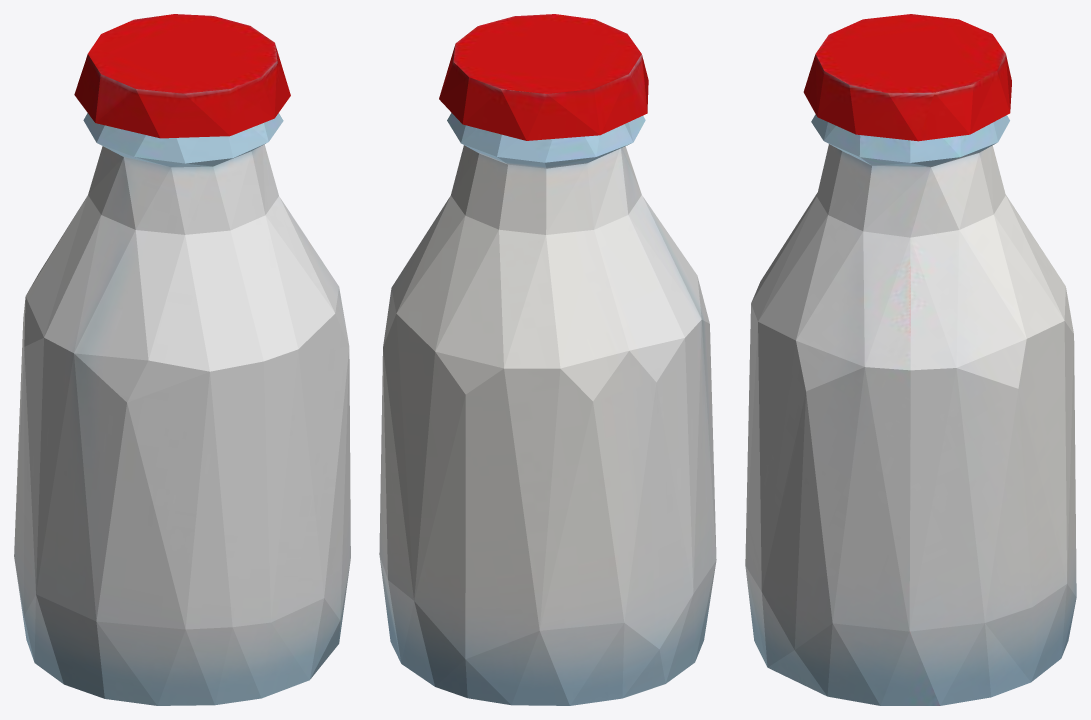
Rendered from milk-bottle.glb.
The picture shows the model from 3 angles, left to right: view 1: azimuth 30°, elevation 25°; view 2: azimuth 150°, elevation 25°; view 3: azimuth 270°, elevation 25°; orthographic projection.
Size of the model in its own units: 0.5215 by 1 by 0.5117.
1 material, 1 textured.
